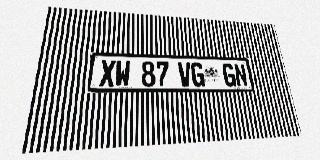7: (155, 61, 169, 87)
8: (141, 61, 155, 87)
G: (190, 62, 205, 87), (222, 63, 237, 87)
N: (233, 63, 248, 87)
V: (178, 62, 192, 87)
W: (115, 60, 130, 87)
X: (99, 60, 116, 87)
